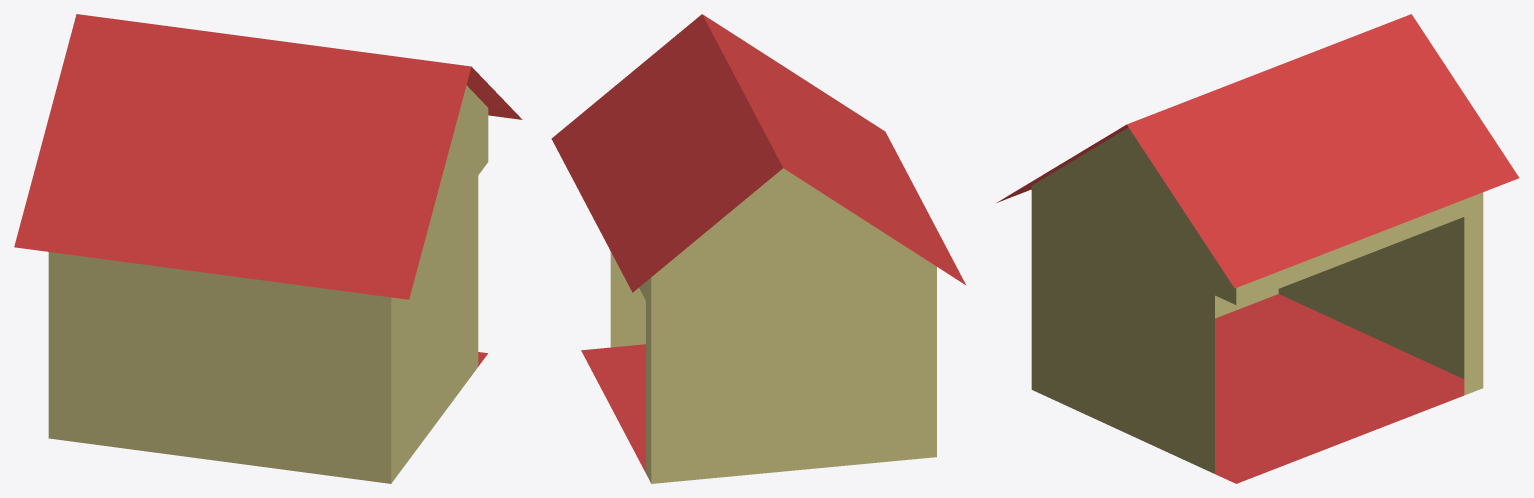
3 views of the same model, side by side, from view 1: azimuth 30°, elevation 25°; view 2: azimuth 150°, elevation 25°; view 3: azimuth 270°, elevation 25° (orthographic). The views are drawn at different scales.
Size of the model in its own units: 15.26 by 15.32 by 10.48.
